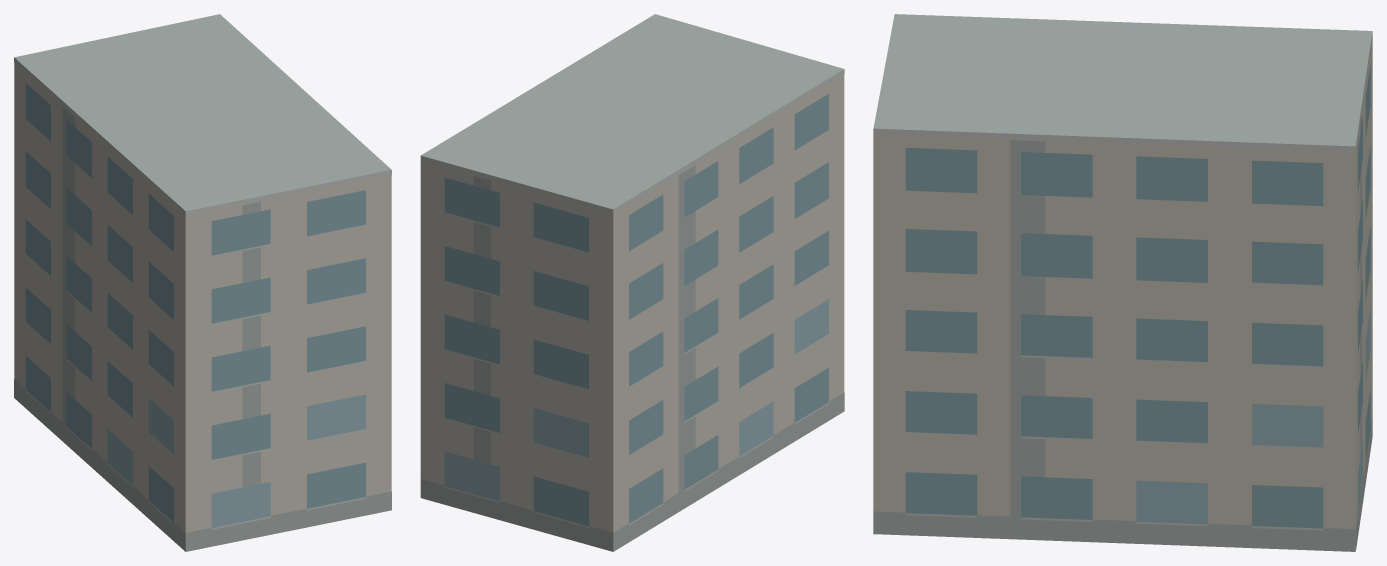
File: survey-upis-33038918.glb
3 views of the same model, side by side, from view 1: azimuth 30°, elevation 25°; view 2: azimuth 150°, elevation 25°; view 3: azimuth 270°, elevation 25° (orthographic). The views are drawn at different scales.
Visible parts, largest first — view 1: survey-upis-33038918.tmp; view 2: survey-upis-33038918.tmp; view 3: survey-upis-33038918.tmp.
Boxes of the visible parts, bbox=[...] form: survey-upis-33038918.tmp: bbox=[14, 14, 391, 551]; survey-upis-33038918.tmp: bbox=[420, 14, 844, 551]; survey-upis-33038918.tmp: bbox=[873, 14, 1372, 551].
Bounding box in the file's own units: 10.69 × 15.25 × 17.02.
